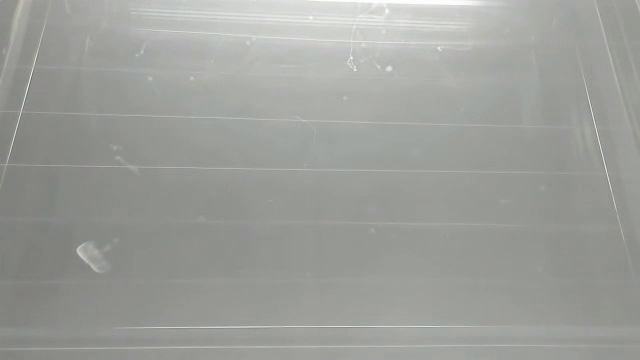alpha: (73, 237, 114, 276)
